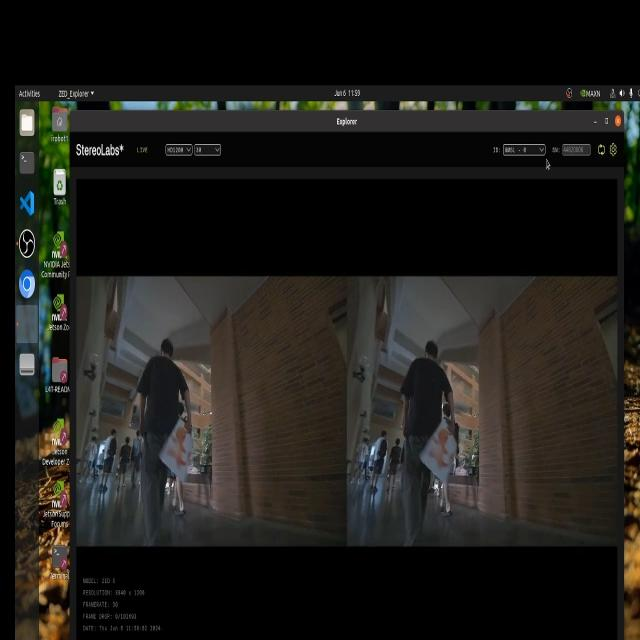red: (164, 423, 202, 478), (429, 425, 450, 476)
